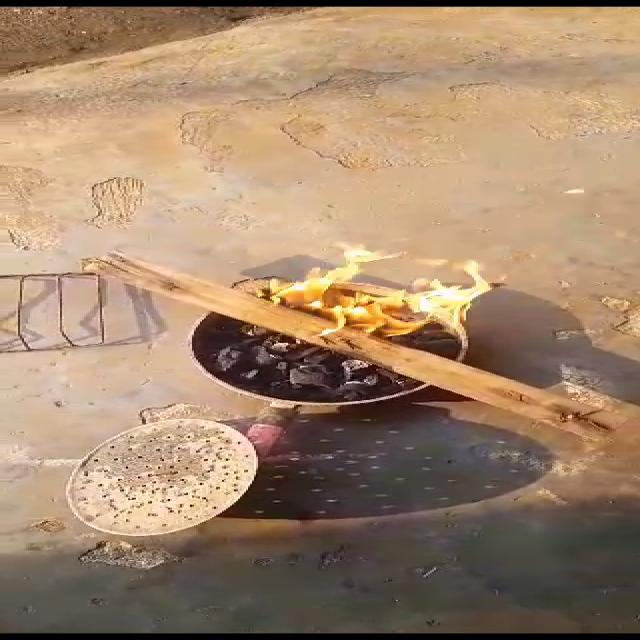Fire: (254, 237, 502, 361)
